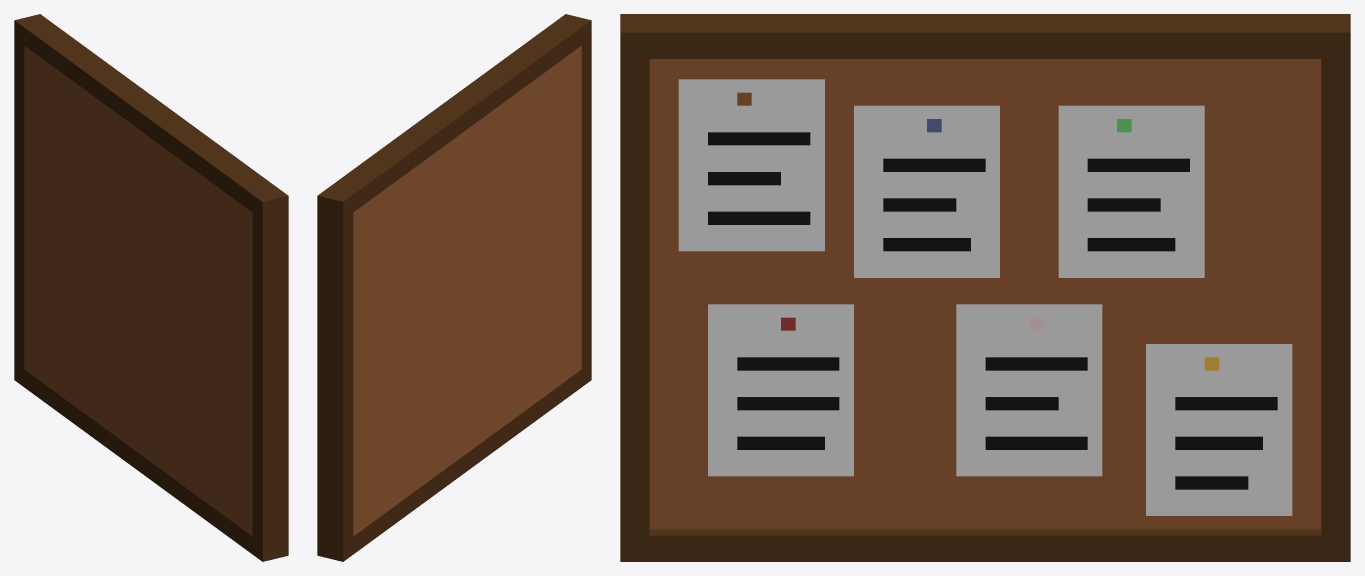
The model's file is SchoolPack-41-billboard.obj.
The picture shows the model from 3 angles, left to right: view 1: azimuth 30°, elevation 25°; view 2: azimuth 150°, elevation 25°; view 3: azimuth 270°, elevation 25°; orthographic projection. The views are drawn at different scales.
Parts seen in each view (by area): view 1: billboard; view 2: billboard; view 3: billboard.
Boxes of the visible parts, left/top/right/bottom form: billboard: left=14, top=14, right=288, bottom=561; billboard: left=317, top=14, right=591, bottom=561; billboard: left=620, top=14, right=1350, bottom=561.
Bounding box in the file's own units: 0.3 × 4 × 5.
1 material, 1 textured.
